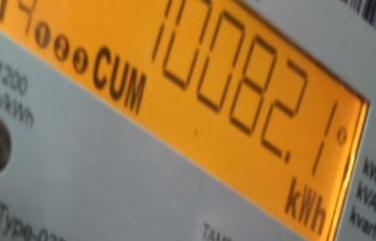.: (282, 176, 329, 238)
0: (281, 152, 292, 167)
1: (194, 8, 246, 117), (162, 0, 209, 92)
2: (310, 95, 340, 179), (149, 0, 175, 66)
3: (258, 59, 309, 159)
9: (227, 33, 279, 139)
